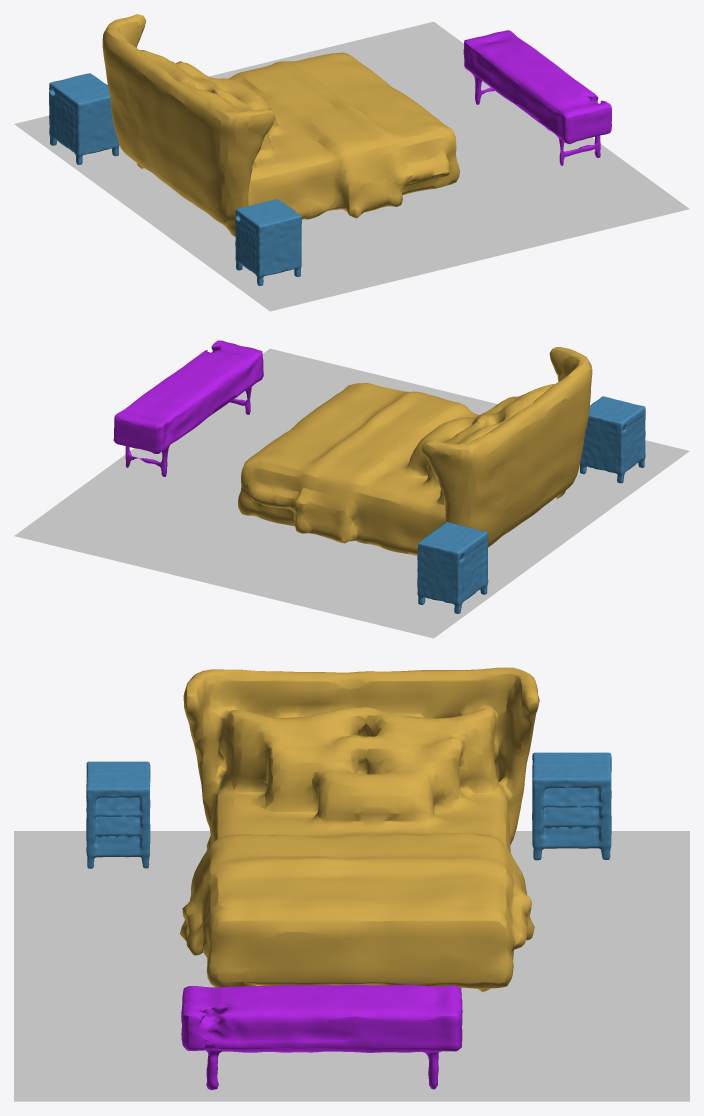
File: Bedroom2.glb
The picture shows the model from 3 angles, top to bottom: view 1: azimuth 30°, elevation 25°; view 2: azimuth 150°, elevation 25°; view 3: azimuth 270°, elevation 25°; orthographic projection. The views are drawn at different scales.
Visible parts, largest first — view 1: world; view 2: world; view 3: world.
Boxes of the visible parts, bbox=[...] form: world: bbox=[14, 14, 689, 311]; world: bbox=[14, 340, 689, 638]; world: bbox=[14, 667, 689, 1101].
Bounding box in the file's own units: 3.64 × 1.15 × 3.84.
